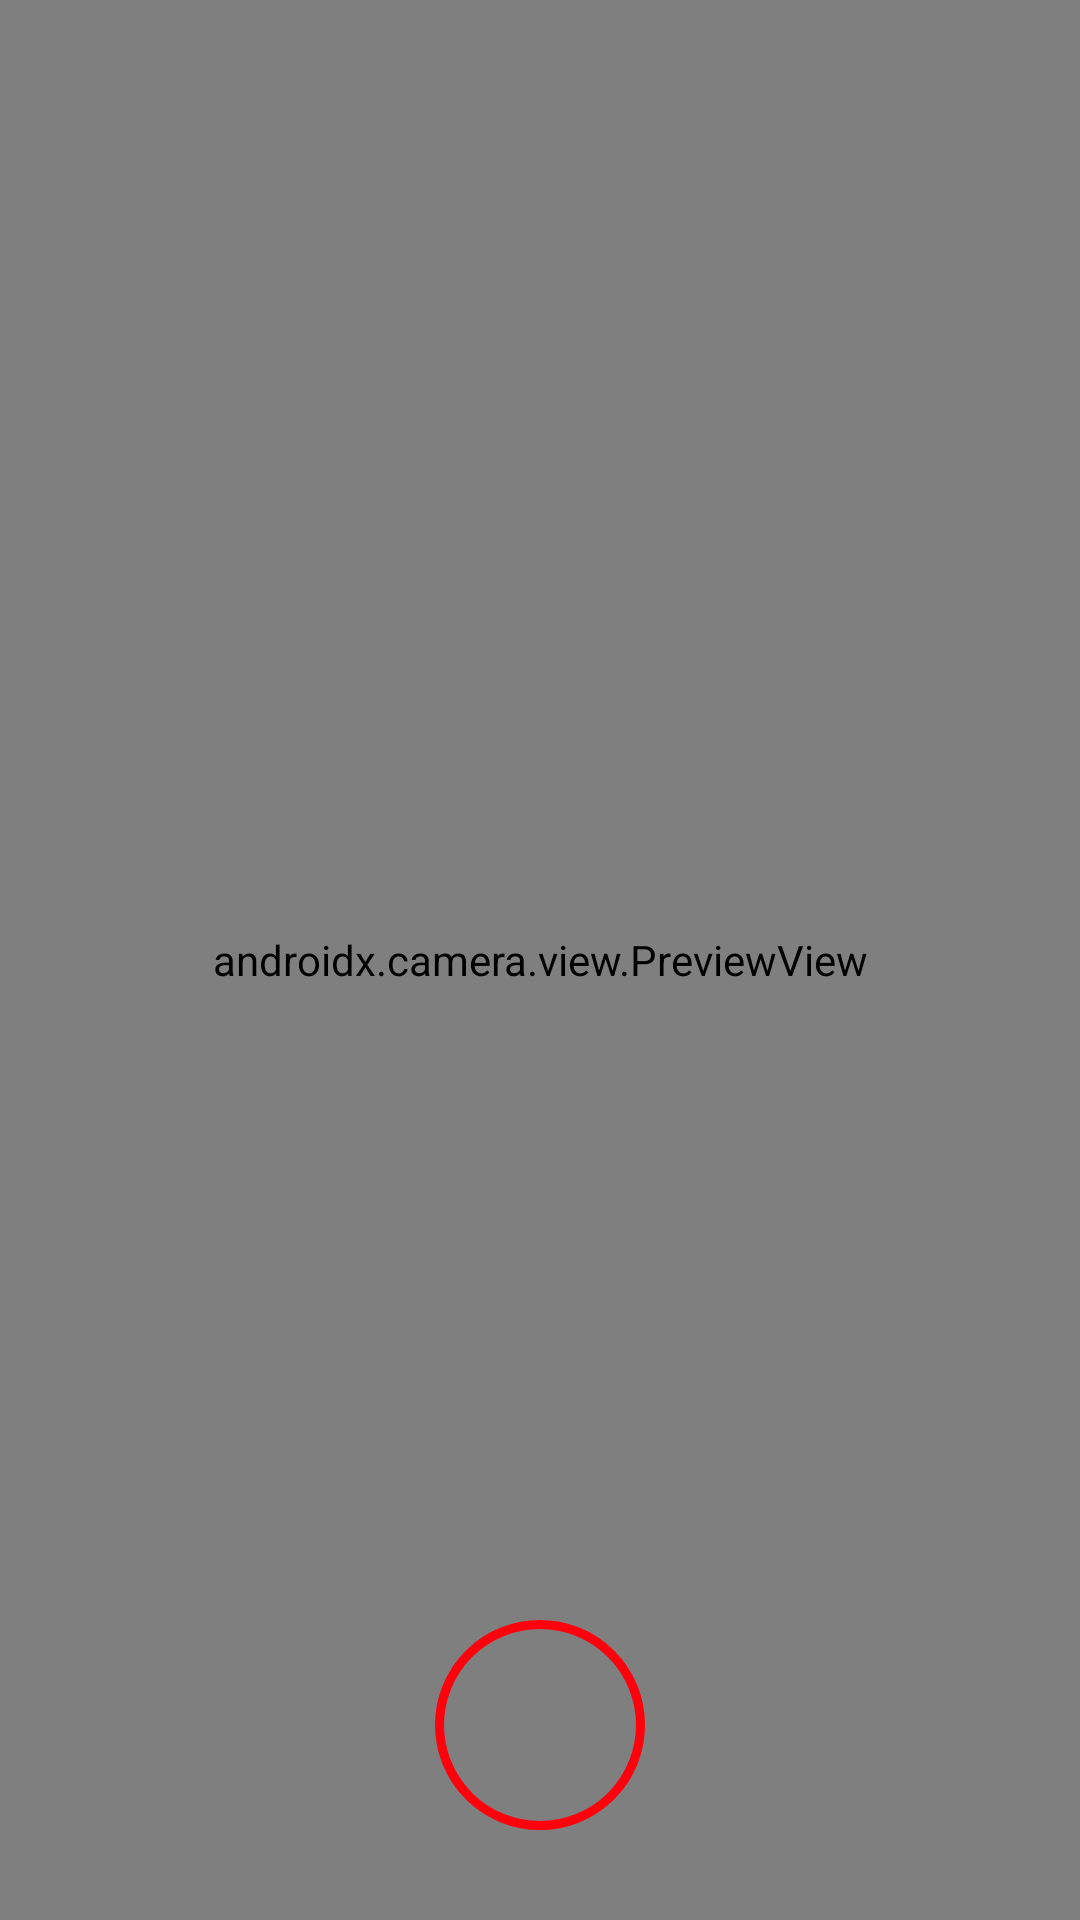

Where to tap for icons on this 1080px×1920px app screen, as point (x, y):
circle: point (540, 1725)
